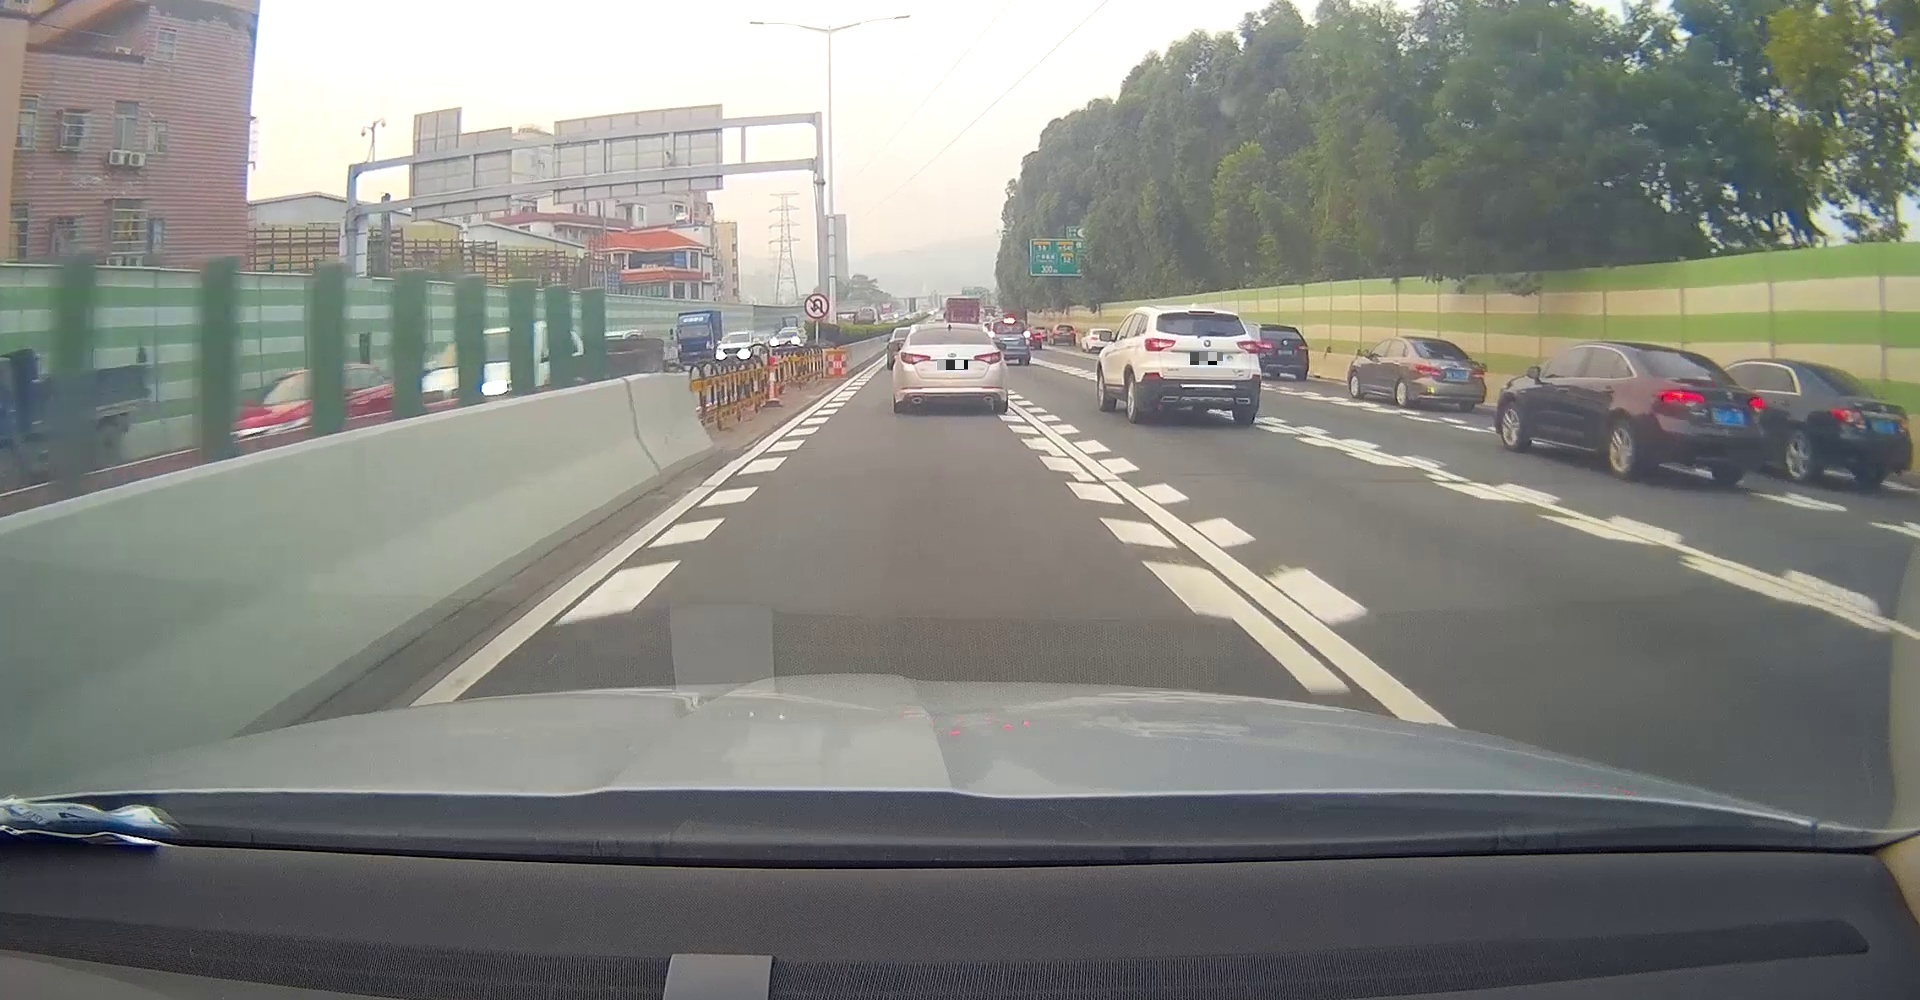L_light: (1656, 390, 1705, 405), (1144, 338, 1176, 352), (902, 352, 931, 365), (1415, 364, 1443, 376)
R_light: (974, 350, 1002, 365), (1236, 340, 1260, 354), (1749, 397, 1764, 414), (1470, 367, 1484, 377)
T_light: (1187, 308, 1217, 315), (1695, 374, 1714, 381), (942, 327, 956, 332), (1443, 355, 1457, 359)
day-no: (1637, 343, 1766, 484), (1142, 305, 1262, 425), (895, 322, 1008, 414), (1406, 335, 1488, 412)
plate_1: (937, 360, 968, 371)
plate_2: (1190, 352, 1223, 365)
